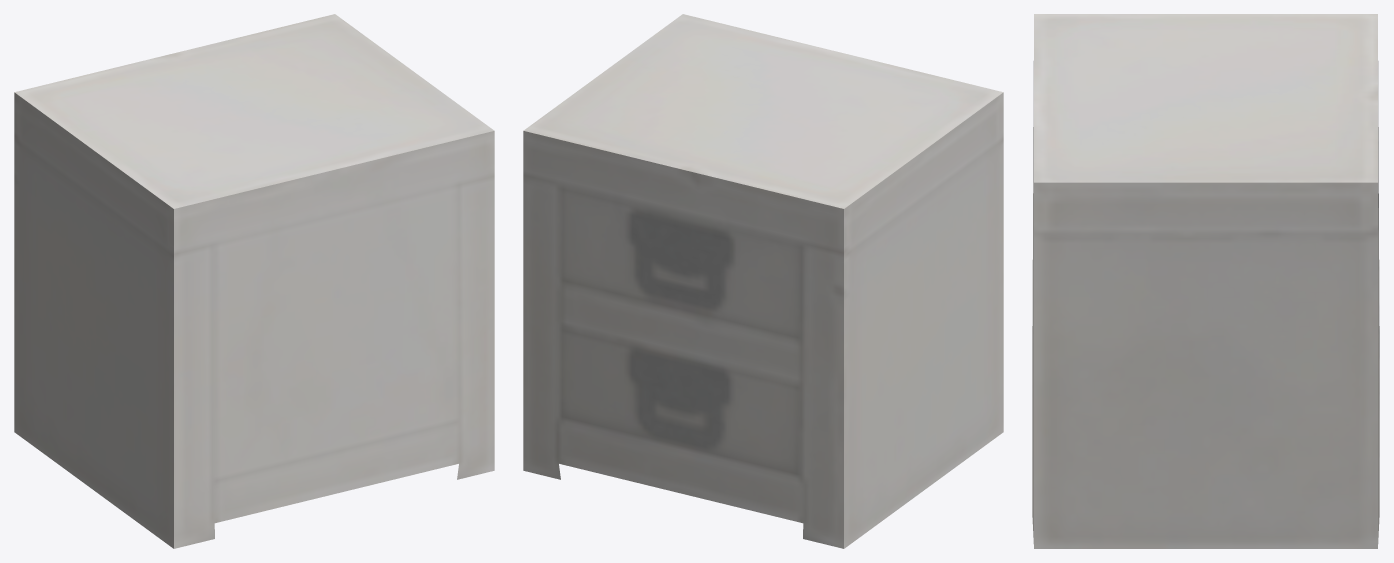
The model's file is Pfb_Indoors_Bedroom_Besidetable.fbx.
The picture shows the model from 3 angles, left to right: view 1: azimuth 30°, elevation 25°; view 2: azimuth 150°, elevation 25°; view 3: azimuth 270°, elevation 25°; orthographic projection. The views are drawn at different scales.
Visible parts, largest first — view 1: Mat_Indoors_Bedroom_01 2; view 2: Mat_Indoors_Bedroom_01 2; view 3: Mat_Indoors_Bedroom_01 2.
Boxes of the visible parts, box(x1,y1,x2,y2) form: Mat_Indoors_Bedroom_01 2: box(14, 14, 494, 548); Mat_Indoors_Bedroom_01 2: box(523, 14, 1003, 548); Mat_Indoors_Bedroom_01 2: box(1032, 14, 1379, 548).
Bounding box in the file's own units: 0.7323 × 0.7417 × 0.6378.
1 material, 1 textured.
